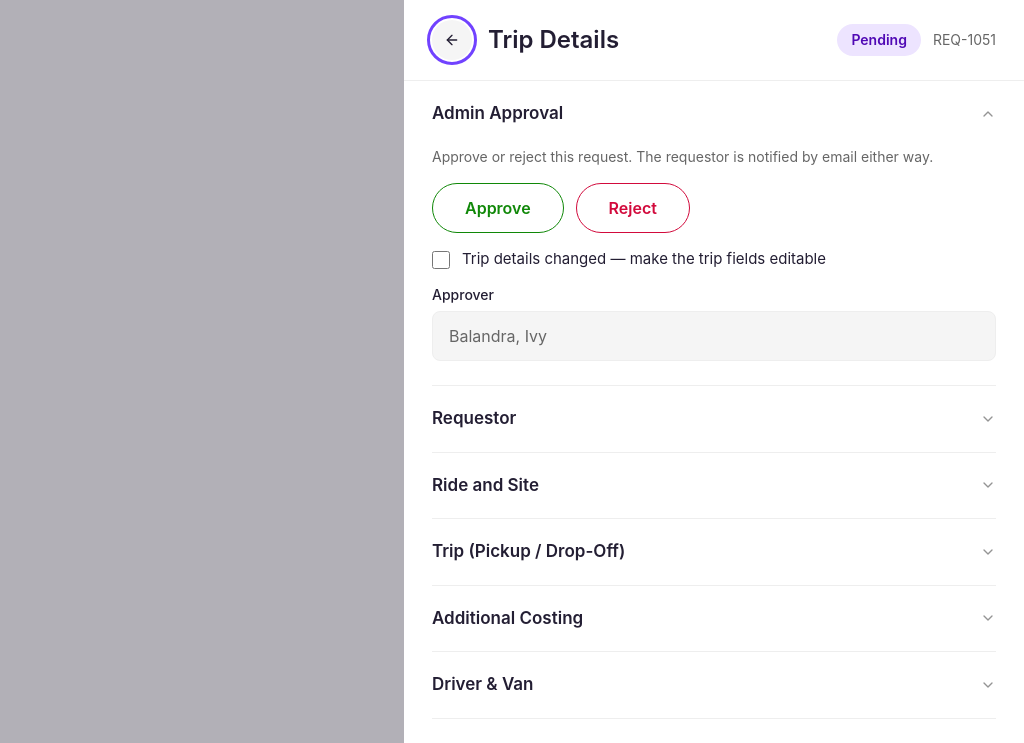
Test: TripDrawer rejection › asks for a reason only once Reject is chosen
The width and height of the screenshot is (1024, 743).
Expected: the field labelled "reason" is not shown
Click the button "Reject" at (633, 208), box [576, 182, 690, 232]
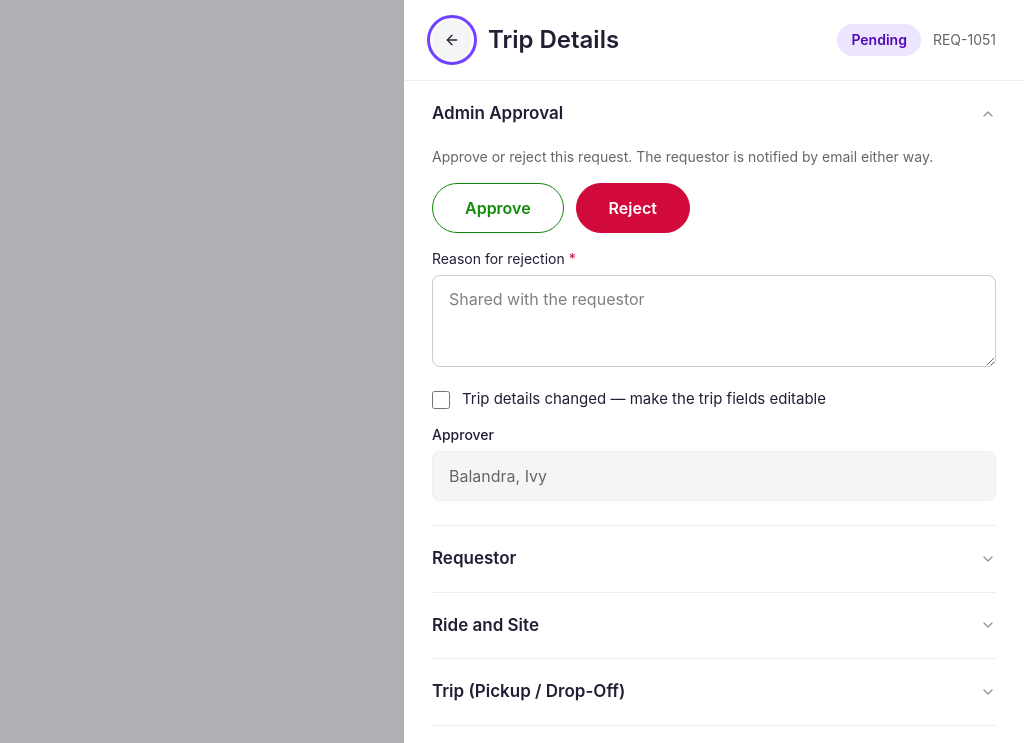
Now the text box labelled "Reason for rejection *" is shown, box [432, 274, 996, 366]
